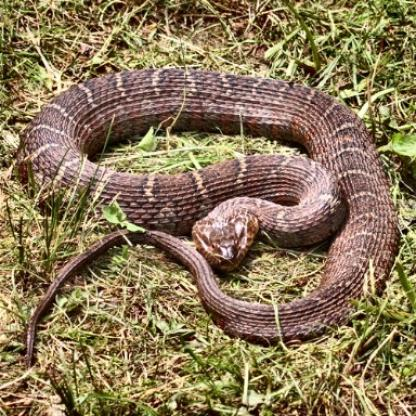Snake: (7, 54, 416, 348)
